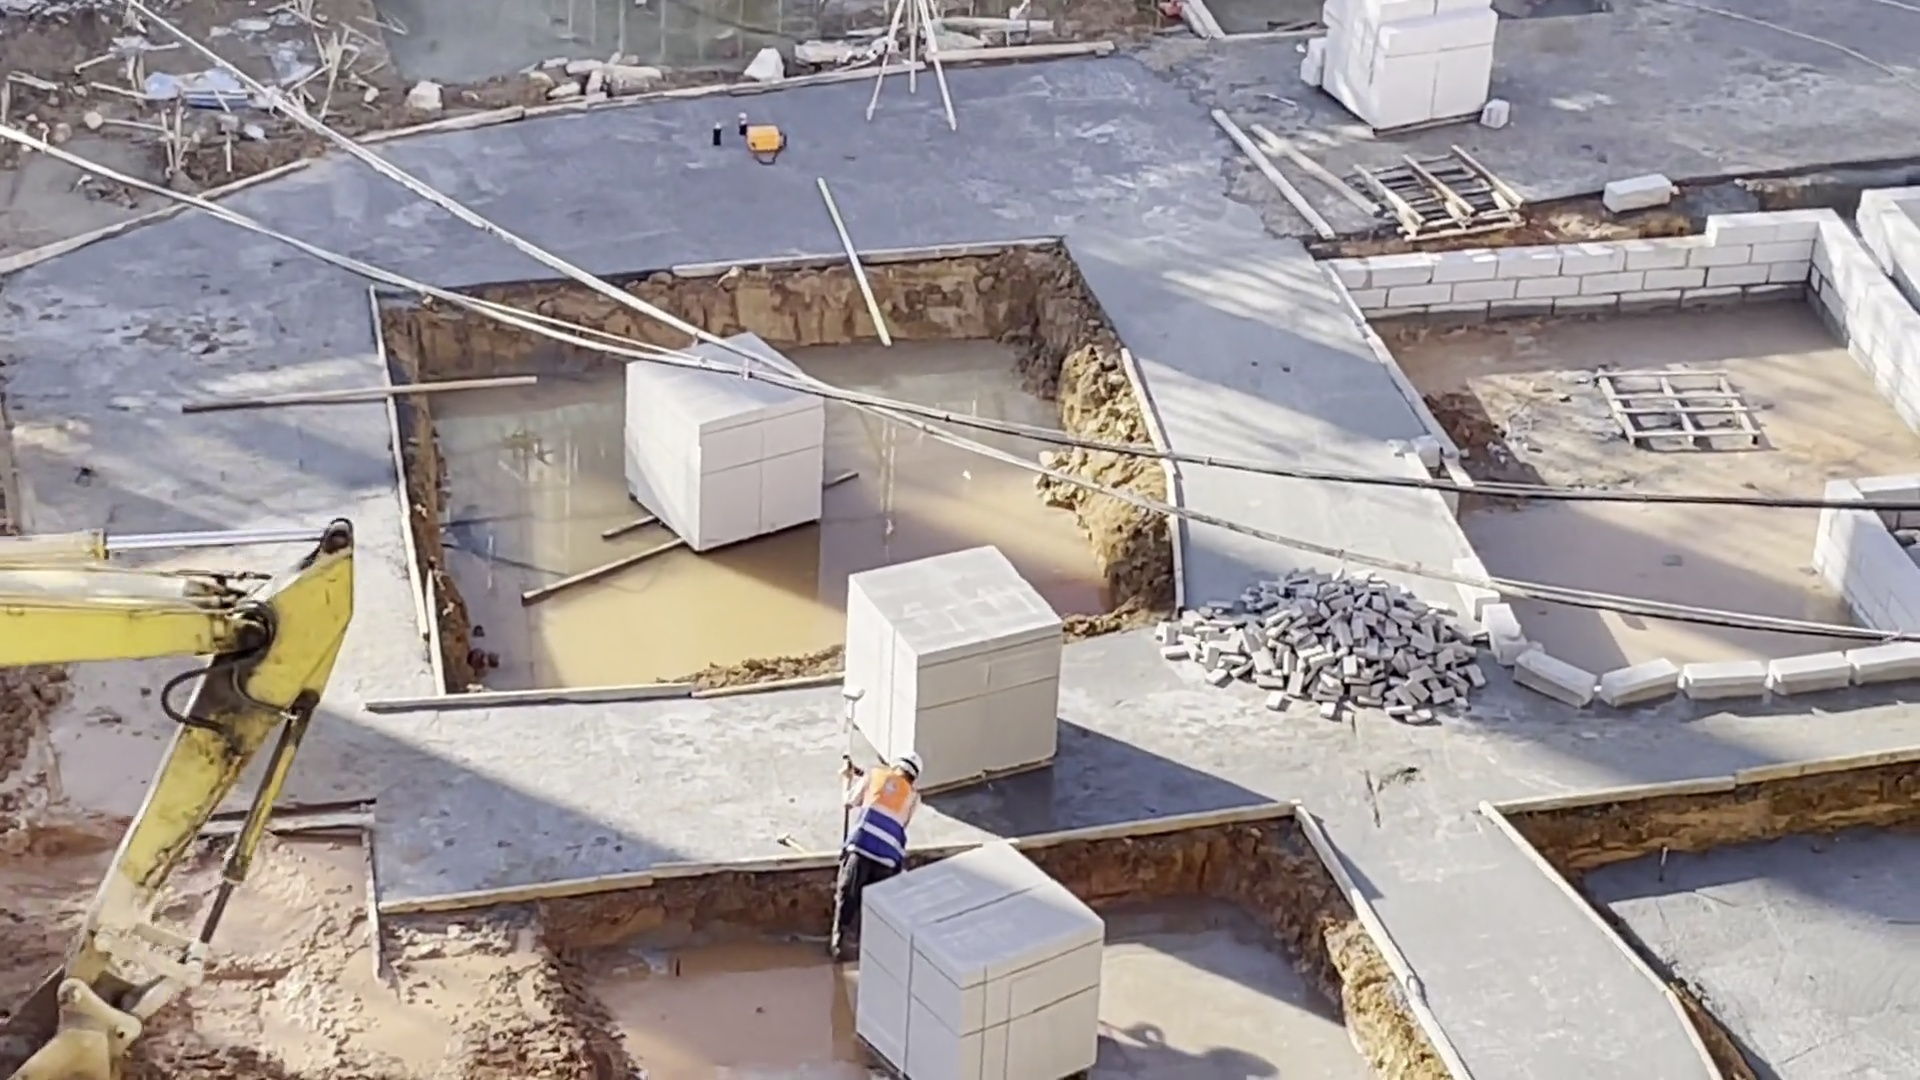brick: (857, 830, 1117, 1080), (1161, 561, 1497, 732), (834, 545, 1069, 786), (606, 330, 827, 562), (1325, 1, 1496, 136)
helmet: (896, 749, 925, 782)
person: (828, 742, 927, 938)
vest: (858, 775, 918, 889)
